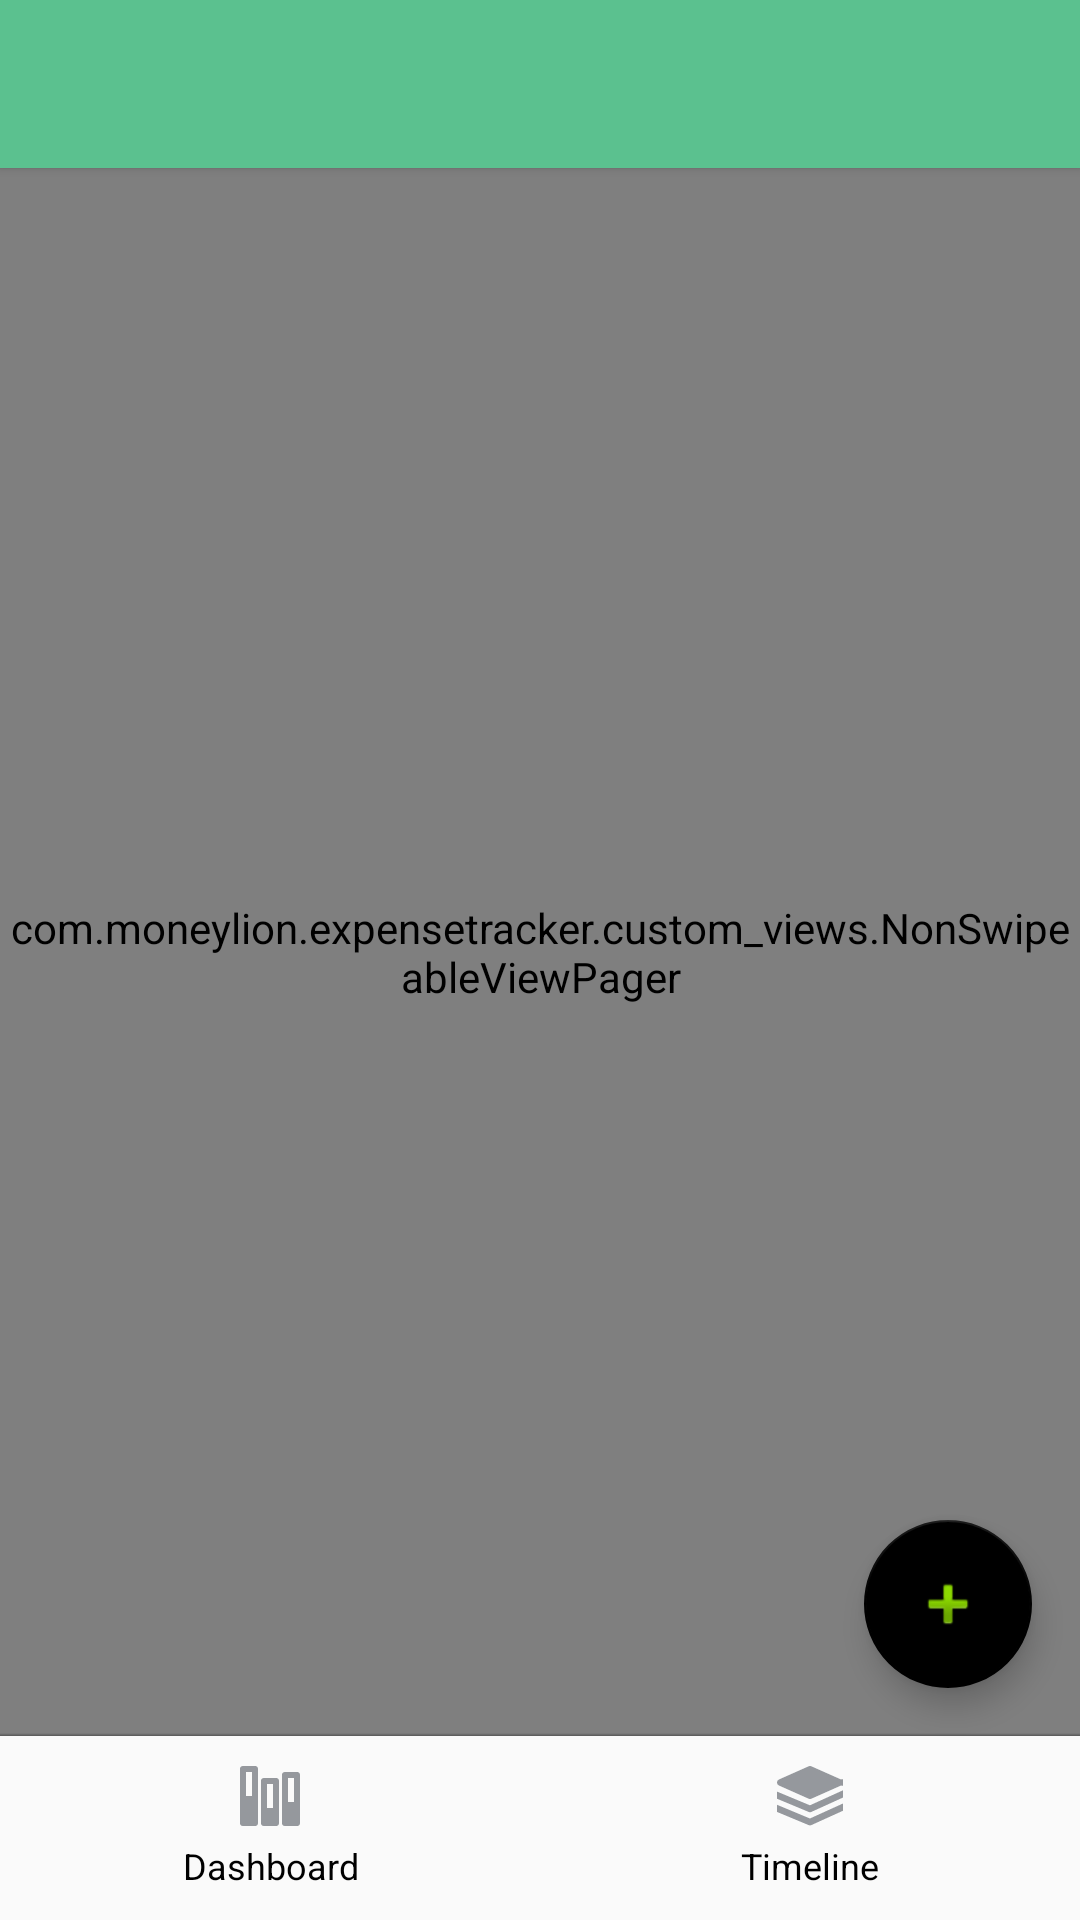

Locate icon controls on the screen. Image size 1080x1920, boxes as [x1=x1, y1=y1, x2=x2, y2=y2].
Add Expense: [x1=864, y1=1520, x2=1032, y2=1688]
